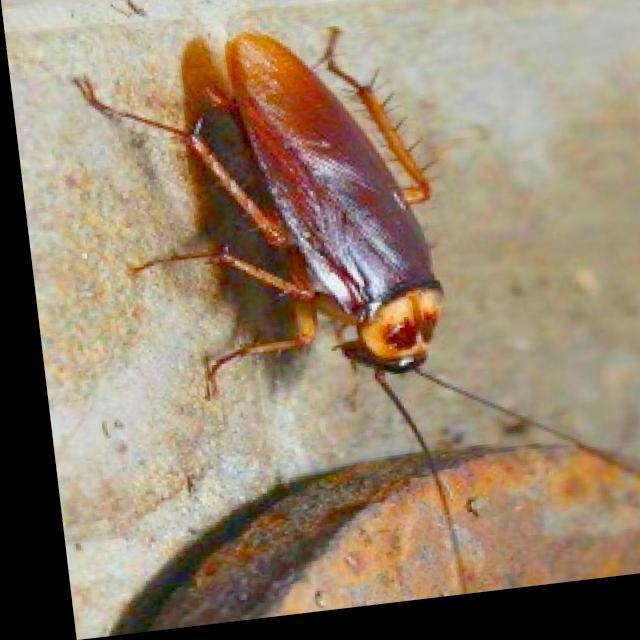cockroach: (79, 0, 497, 447)
